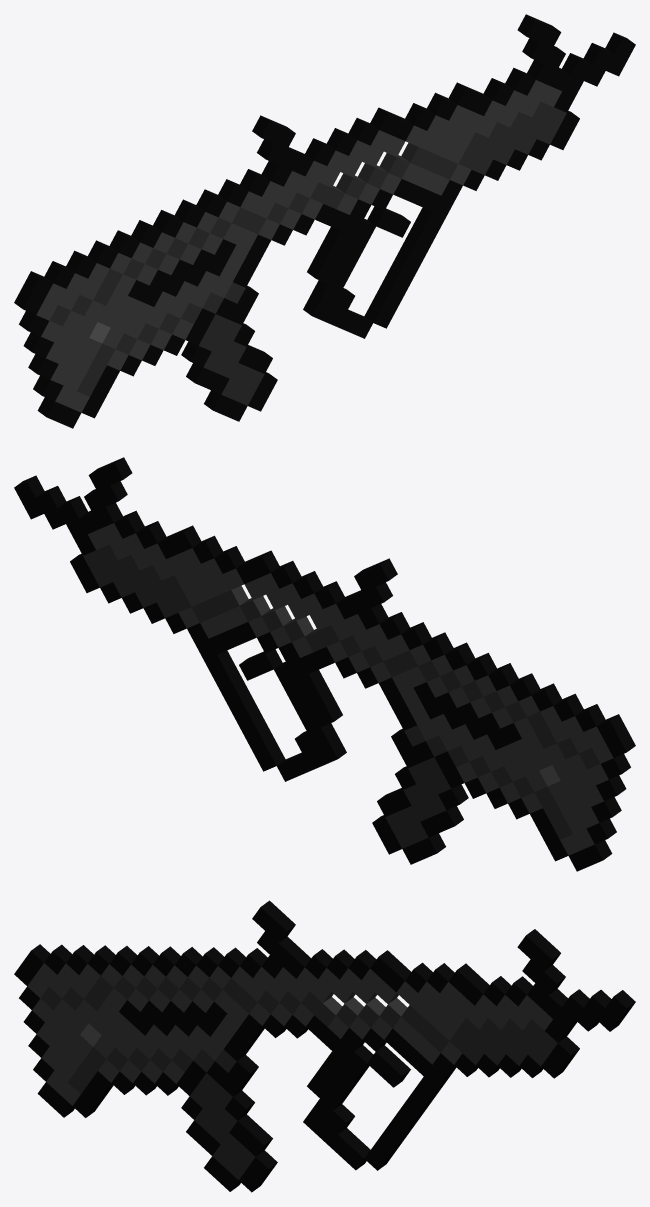
The model's file is TAR-21.glb.
3 renders of one model, top to bottom at view 1: azimuth 30°, elevation 25°; view 2: azimuth 150°, elevation 25°; view 3: azimuth 330°, elevation 25°, orthographic.
Parts seen in each view (by area): view 1: Untitled.001; view 2: Untitled.001; view 3: Untitled.001.
Part boxes in pixels (x1=…): Untitled.001: x1=14, y1=14, x2=635, y2=428; Untitled.001: x1=14, y1=457, x2=635, y2=871; Untitled.001: x1=14, y1=900, x2=635, y2=1192.
Size of the model in its own units: 17.55 by 9 by 0.45.
1 material, 1 textured.
